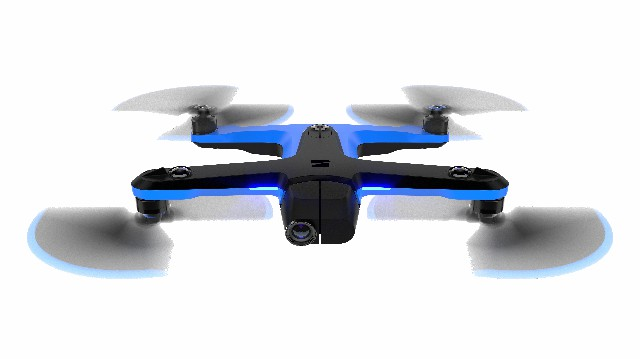maybay_khongnguoilai: (34, 82, 612, 289)
